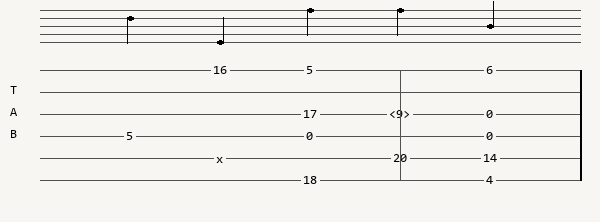0: (306, 130, 317, 142), (486, 130, 497, 142), (486, 108, 497, 120)
14: (483, 152, 501, 164)
16: (213, 64, 231, 76)
17: (303, 108, 321, 120)
18: (303, 174, 321, 186)
20: (393, 152, 411, 164)
4: (486, 174, 497, 186)
5: (126, 130, 137, 142), (306, 64, 317, 76)
6: (486, 64, 497, 76)
harmonic: (389, 108, 414, 120)
x: (216, 153, 227, 163)
